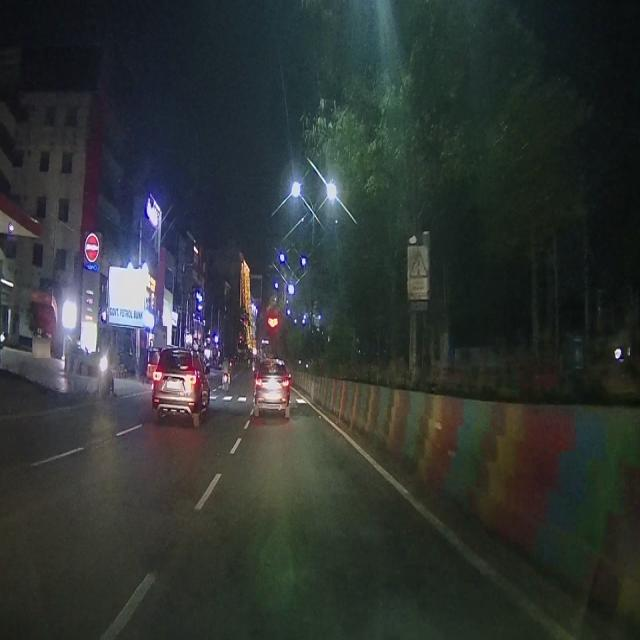gap-in-median: (405, 232, 429, 294)
